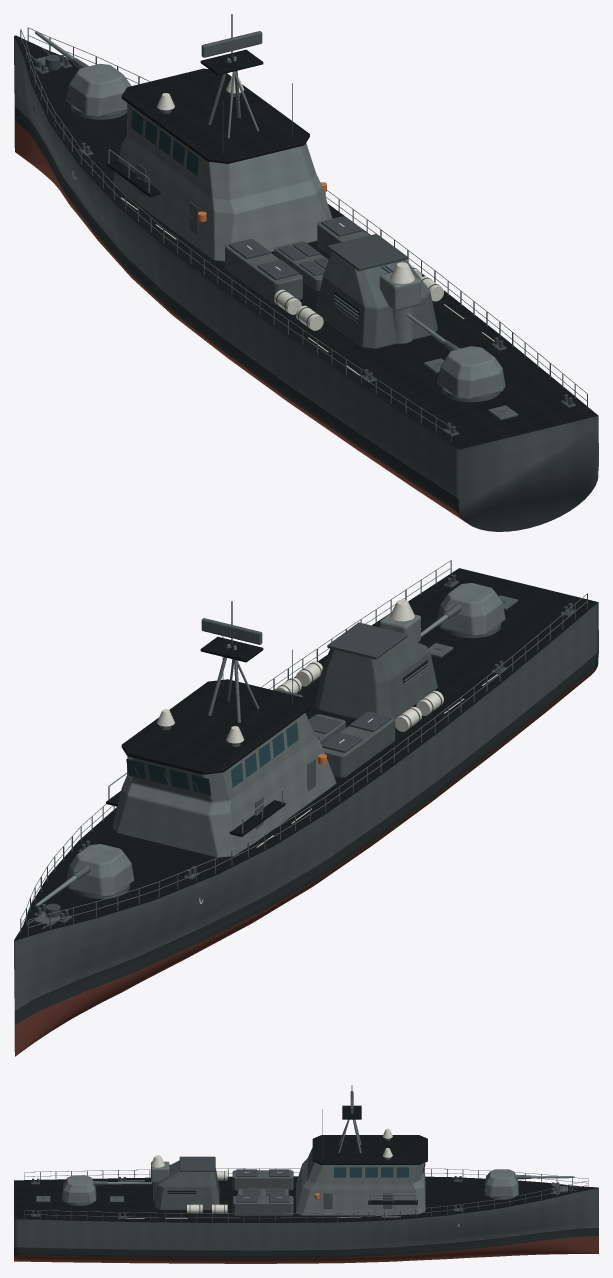
File: kestrel.glb
The picture shows the model from 3 angles, top to bottom: view 1: azimuth 30°, elevation 25°; view 2: azimuth 150°, elevation 25°; view 3: azimuth 270°, elevation 25°; orthographic projection. The views are drawn at different scales.
Visible parts, largest first — view 1: stern, bridge, mid, bow, Bridge roof, Deck fittings, engine, aft_gun, gun, launcher_port, Exhaust cap, ciws (+3 smaller); view 2: bow, stern, mid, bridge, Bridge roof, Deck fittings, engine, aft_gun, gun, launcher_port, Exhaust cap, Mast platform (+2 smaller); view 3: stern, bow, mid, bridge, Deck fittings, Bridge roof, engine, launcher_starboard, launcher_port, aft_gun, gun, Exhaust cap (+2 smaller).
Part boxes in pixels (bbox=[...]): stern: bbox=[274, 290, 598, 531]; bridge: bbox=[112, 103, 332, 261]; mid: bbox=[109, 194, 425, 398]; bow: bbox=[14, 35, 127, 265]; Bridge roof: bbox=[121, 68, 309, 163]; Deck fittings: bbox=[20, 27, 587, 442]; engine: bbox=[315, 252, 437, 348]; aft_gun: bbox=[437, 346, 505, 399]; gun: bbox=[66, 63, 131, 116]; launcher_port: bbox=[225, 239, 302, 304]; Exhaust cap: bbox=[327, 234, 407, 270]; ciws: bbox=[379, 272, 420, 310]; bow: bbox=[14, 814, 263, 1056]; stern: bbox=[294, 568, 598, 801]; mid: bbox=[109, 698, 440, 927]; bridge: bbox=[112, 713, 336, 857]; Bridge roof: bbox=[121, 679, 309, 774]; Deck fittings: bbox=[20, 560, 587, 952]; engine: bbox=[315, 638, 437, 719]; aft_gun: bbox=[437, 583, 505, 635]; gun: bbox=[66, 844, 134, 896]; launcher_port: bbox=[323, 712, 395, 777]; Exhaust cap: bbox=[327, 622, 407, 659]; Mast platform: bbox=[200, 636, 263, 662]; stern: bbox=[14, 1177, 208, 1263]; bow: bbox=[404, 1176, 598, 1260]; mid: bbox=[209, 1176, 403, 1263]; bridge: bbox=[296, 1148, 425, 1215]; Deck fittings: bbox=[24, 1168, 588, 1222]; Bridge roof: bbox=[312, 1135, 427, 1164]; engine: bbox=[155, 1160, 219, 1209]; launcher_starboard: bbox=[232, 1196, 293, 1215]; launcher_port: bbox=[232, 1170, 293, 1190]; aft_gun: bbox=[62, 1175, 96, 1202]; gun: bbox=[485, 1169, 518, 1196]; Exhaust cap: bbox=[179, 1156, 215, 1171].
Bounding box in the file's own units: 10.2 × 17.3 × 54.
12 materials, 3 textured.
